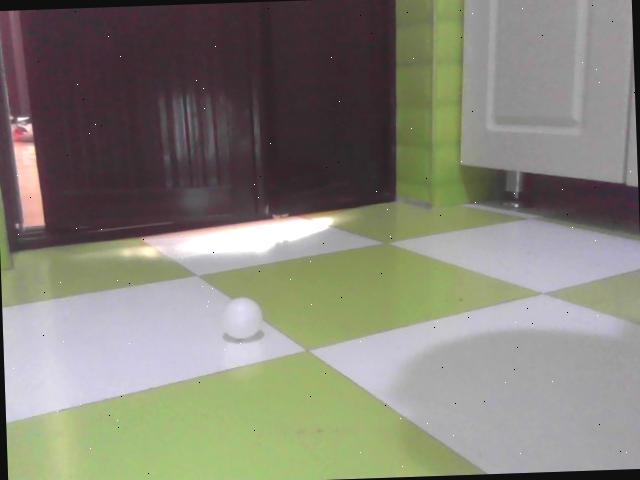ball: (224, 298, 264, 340)
